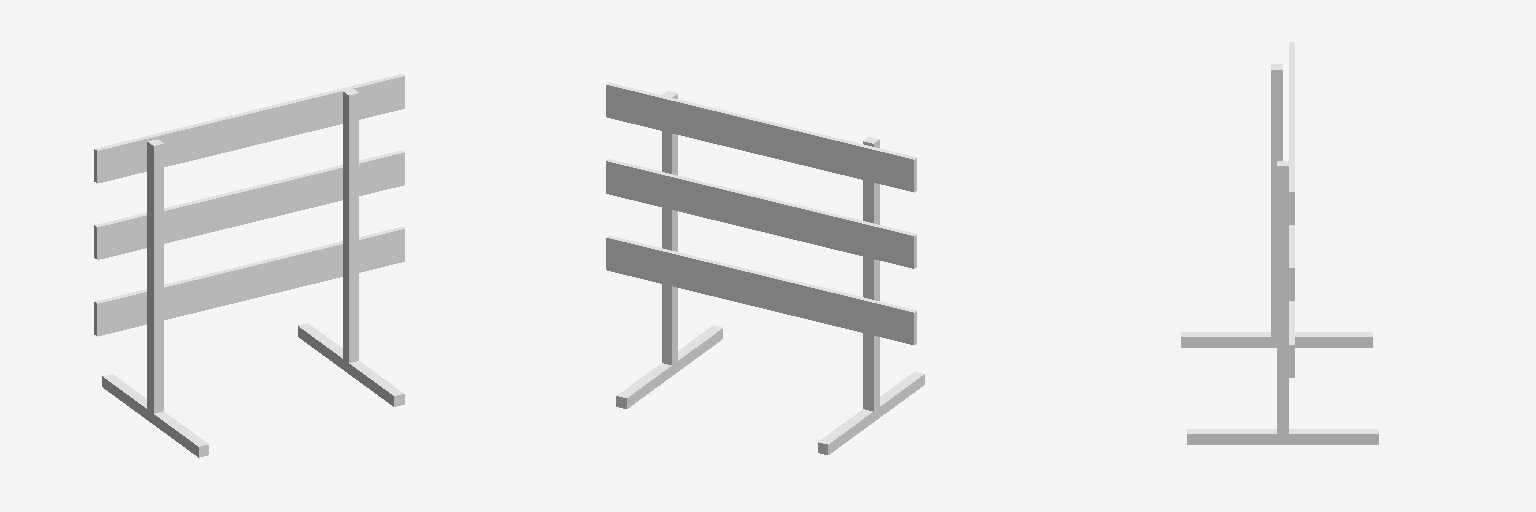
The model's file is zaborchik.vox.obj.
3 views of the same model, side by side, from view 1: azimuth 30°, elevation 25°; view 2: azimuth 150°, elevation 25°; view 3: azimuth 270°, elevation 25° (orthographic).
Parts seen in each view (by area): view 1: object 1; view 2: object 1; view 3: object 1.
Part boxes in pixels (x1,y1,x2,y2): object 1: (94, 74, 404, 457); object 1: (606, 82, 924, 454); object 1: (1181, 42, 1378, 444).
Size of the model in its own units: 5.9 by 5.1 by 3.3.